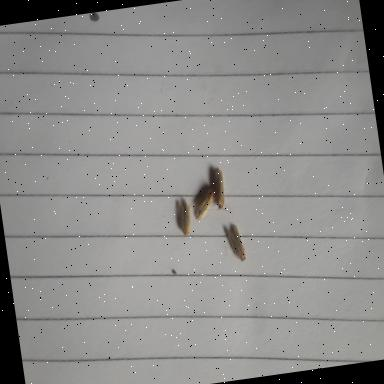pbw: (190, 186, 220, 226), (222, 221, 246, 265), (172, 199, 192, 240), (212, 166, 229, 214)
